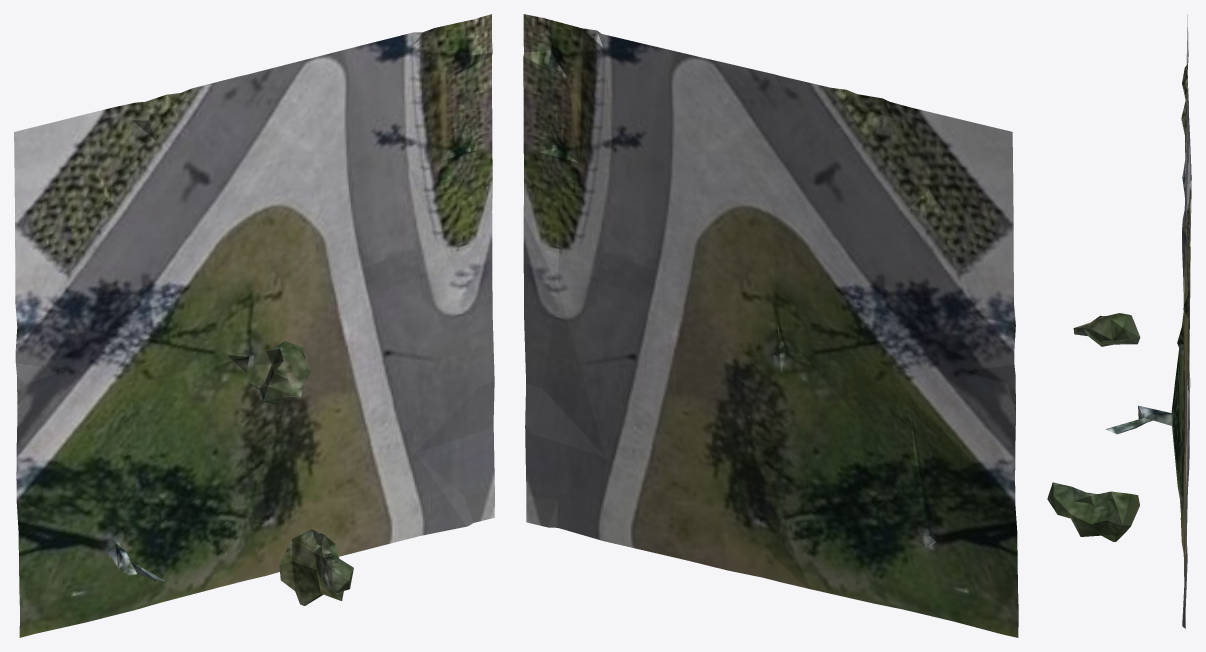
Rendered from Tile_+032_+023_L19_000112.obj.
The picture shows the model from 3 angles, left to right: view 1: azimuth 30°, elevation 25°; view 2: azimuth 150°, elevation 25°; view 3: azimuth 270°, elevation 25°; orthographic projection. The views are drawn at different scales.
Bounding box in the file's own units: 31.75 × 31.75 × 9.76.
Materials: 1 (1 with a texture image).
